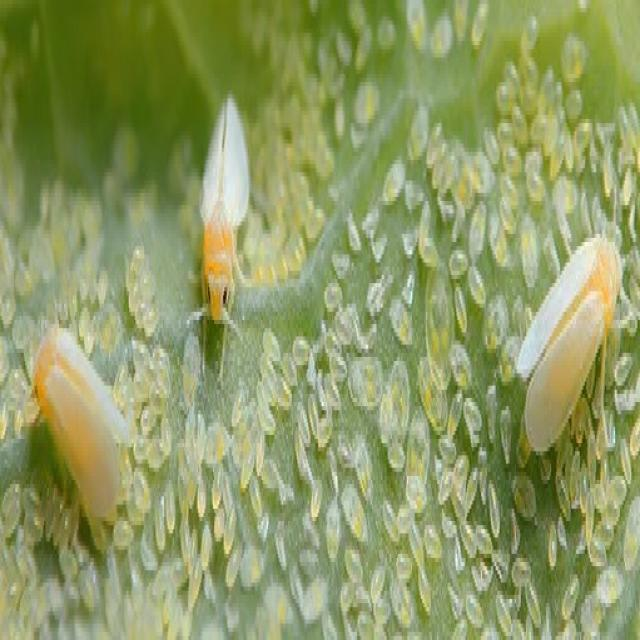Whitefly: (510, 169, 640, 474), (13, 305, 142, 556), (180, 64, 254, 394)
